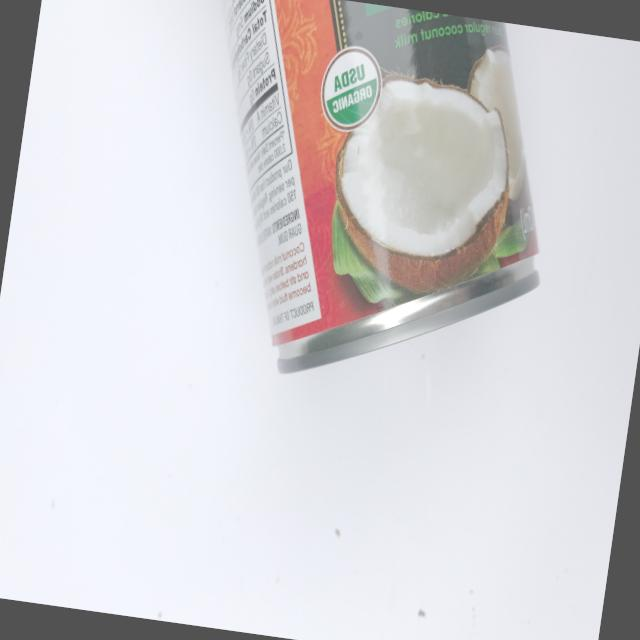Metal: (134, 0, 585, 414)
